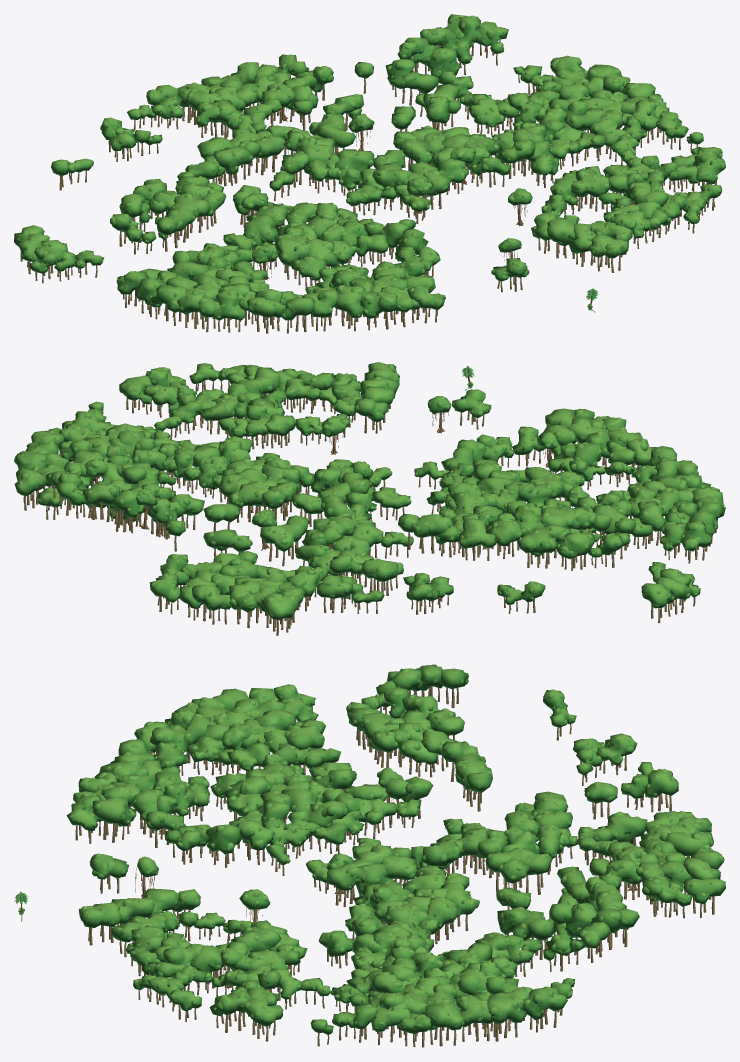
The model's file is plants.glb.
The picture shows the model from 3 angles, top to bottom: view 1: azimuth 30°, elevation 25°; view 2: azimuth 150°, elevation 25°; view 3: azimuth 270°, elevation 25°; orthographic projection. The views are drawn at different scales.
Parts seen in each view (by area): view 1: canopyfar_2_3, canopyfar_4_2, canopyfar_3_2, canopyfar_4_3, canopyfar_1_3, canopyfar_2_2, canopyfar_3_3, canopy_2_3, canopy_4_3, canopyfar_1_2, canopy_4_2, canopy_3_2 (+15 smaller); view 2: canopyfar_2_3, canopyfar_3_2, canopyfar_4_2, canopyfar_2_2, canopyfar_1_3, canopyfar_4_3, canopyfar_3_3, canopy_3_2, canopy_2_3, canopyfar_3_1, canopyfar_1_2, canopy_2_2 (+15 smaller); view 3: canopyfar_2_3, canopyfar_4_2, canopyfar_3_2, canopyfar_4_3, canopyfar_2_2, canopyfar_1_3, canopy_2_3, canopyfar_3_3, canopy_4_2, canopy_4_3, canopyfar_3_1, canopy_2_2 (+14 smaller).
Part boxes in pixels (x1,y1,x2,y2): canopyfar_2_3: (201,185,440,304); canopyfar_4_2: (439,16,678,145); canopyfar_3_2: (287,37,514,190); canopyfar_4_3: (546,111,725,219); canopyfar_1_3: (117,193,277,320); canopyfar_2_2: (108,102,339,215); canopyfar_3_3: (372,140,639,240); canopy_2_3: (201,185,439,322); canopy_4_3: (549,112,725,235); canopyfar_1_2: (14,158,180,273); canopy_4_2: (438,15,664,165); canopy_3_2: (290,40,516,205); canopyfar_2_3: (372,426,656,526); canopyfar_3_2: (107,456,376,564); canopyfar_4_2: (14,417,220,522); canopyfar_2_2: (282,509,543,597); canopyfar_1_3: (540,459,725,551); canopyfar_4_3: (75,363,295,450); canopyfar_3_3: (205,378,390,501); canopy_3_2: (110,456,376,568); canopy_2_3: (372,428,655,542); canopyfar_3_1: (149,520,286,610); canopyfar_1_2: (497,524,700,607); canopy_2_2: (281,510,544,608); canopyfar_2_3: (146,731,397,865); canopyfar_4_2: (368,908,621,1034); canopyfar_3_2: (375,829,617,940); canopyfar_4_3: (146,927,390,1034); canopyfar_2_2: (378,723,617,857); canopyfar_1_3: (152,684,406,768); canopy_2_3: (147,731,398,875); canopyfar_3_3: (160,846,394,956); canopy_4_2: (368,912,622,1047); canopy_4_3: (146,927,389,1046); canopyfar_3_1: (599,839,725,906); canopy_2_2: (377,723,617,874).
Size of the model in its own units: 327 by 36.23 by 276.
